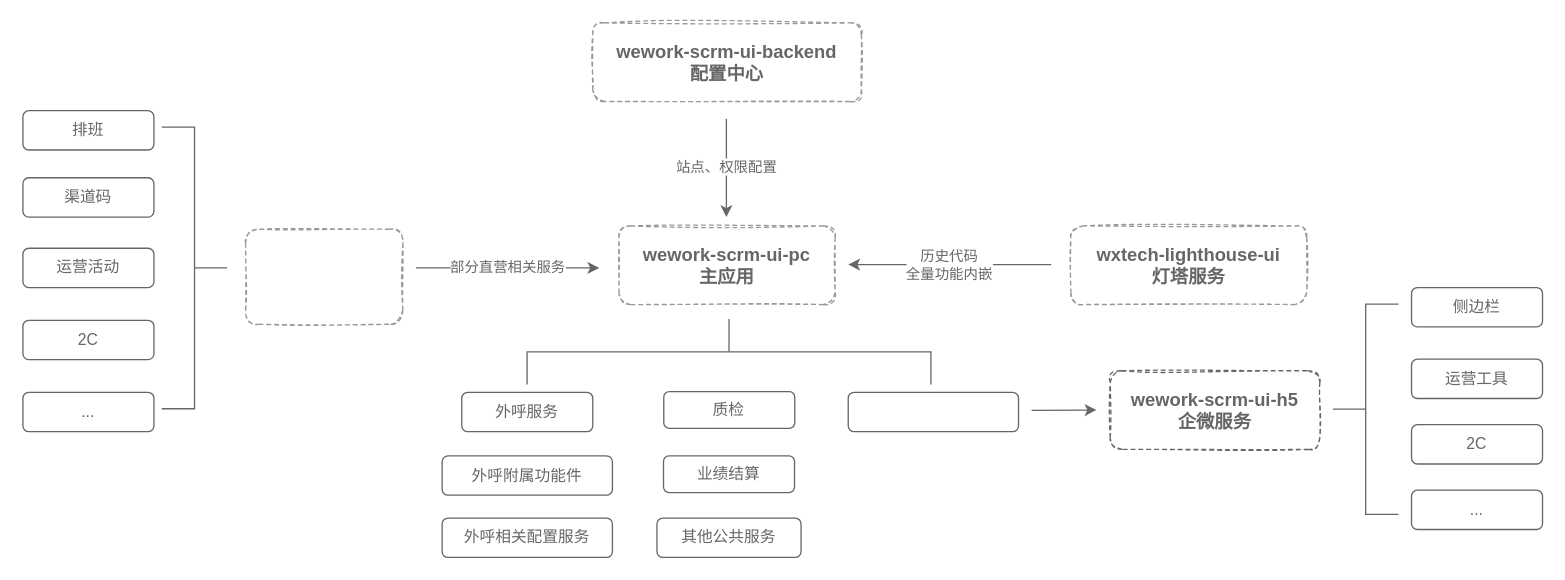
Image size: 1565x580. Some labels were removed from this diagram. Each missing label, with the centre of its shape:
"dm-wxwork、 dm-subject-ts 直营服务" goes at (x=323, y=276).
"企微相关配置服务" goes at (x=933, y=411).
